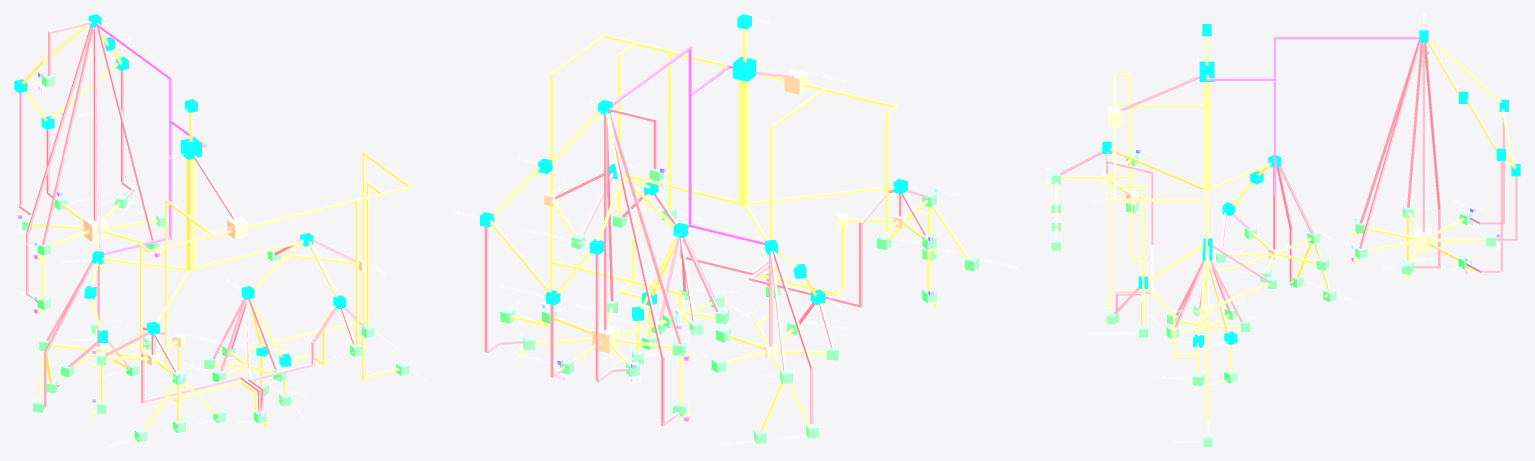
Rendered from CollectionFramework.glb.
The picture shows the model from 3 angles, left to right: view 1: azimuth 30°, elevation 25°; view 2: azimuth 150°, elevation 25°; view 3: azimuth 270°, elevation 25°; orthographic projection. The views are drawn at different scales.
Visible parts, largest first — view 1: Cube.048, Cube.125, Cube.123, Cube.016, Cube.124, Cube.054, SortedSet-Cube.003, Cube.171, Cube.063, Cube.181, Cube.185, Cube.055 (+6 smaller); view 2: Cube.048, Cube.016, Cube.125, SortedSet-Cube.003, Cube.054, Cube.063, Cube.145, Cube.121, Cube.185, Cube.170, Cube.171; view 3: Cube.048, Cube.123, SortedSet-Cube.003, Cube.032, Cube.054, Cube.124, Cube.125, Cube.145, Cube.016.
Boxes of the visible parts, left/top/right/bottom form: Cube.048: left=186, top=158, right=196, bottom=271; Cube.125: left=42, top=27, right=94, bottom=245; Cube.123: left=97, top=27, right=154, bottom=240; Cube.016: left=26, top=26, right=91, bottom=234; Cube.124: left=95, top=26, right=101, bottom=251; Cube.054: left=93, top=28, right=96, bottom=220; SortedSet-Cube.003: left=39, top=321, right=156, bottom=377; Cube.171: left=248, top=186, right=411, bottom=228; Cube.063: left=169, top=79, right=172, bottom=239; Cube.181: left=165, top=199, right=168, bottom=367; Cube.185: left=355, top=202, right=358, bottom=346; Cube.055: left=19, top=92, right=22, bottom=205; Cube.048: left=739, top=80, right=749, bottom=206; Cube.016: left=608, top=114, right=664, bottom=358; Cube.125: left=610, top=113, right=682, bottom=344; SortedSet-Cube.003: left=711, top=319, right=838, bottom=383; Cube.054: left=604, top=115, right=607, bottom=330; Cube.063: left=688, top=49, right=691, bottom=227; Cube.145: left=726, top=327, right=826, bottom=370; Cube.121: left=484, top=227, right=488, bottom=352; Cube.185: left=668, top=48, right=671, bottom=209; Cube.170: left=749, top=185, right=894, bottom=204; Cube.171: left=604, top=34, right=784, bottom=81; Cube.048: left=1203, top=82, right=1210, bottom=192; Cube.123: left=1359, top=40, right=1421, bottom=248; SortedSet-Cube.003: left=1216, top=226, right=1329, bottom=282; Cube.032: left=1273, top=36, right=1419, bottom=39; Cube.054: left=1422, top=42, right=1424, bottom=232; Cube.124: left=1360, top=40, right=1418, bottom=223; Cube.125: left=1407, top=42, right=1422, bottom=207; Cube.145: left=1226, top=233, right=1316, bottom=269; Cube.016: left=1425, top=42, right=1440, bottom=208.
Bounding box in the file's own units: 331 × 270 × 365.
